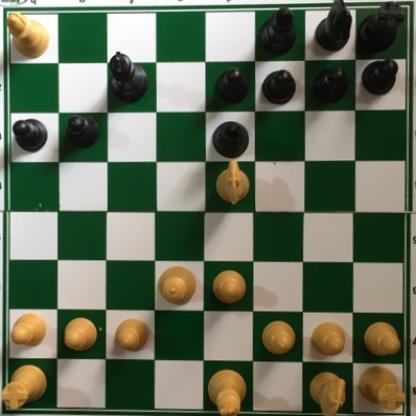black-bishop: (255, 1, 296, 57), (211, 119, 249, 159)
black-king: (105, 47, 148, 101)
black-knight: (315, 1, 353, 53)
black-pawn: (361, 57, 399, 99), (310, 66, 349, 105), (10, 117, 48, 153), (261, 68, 296, 106), (64, 114, 99, 151), (215, 67, 249, 105)
black-rook: (354, 1, 406, 55)
white-bishop: (5, 10, 52, 60)
white-king: (205, 366, 247, 416)
white-knight: (307, 368, 348, 416), (213, 154, 248, 202)
white-pawn: (360, 320, 400, 359), (9, 309, 49, 347), (113, 316, 152, 353), (258, 318, 297, 355), (309, 320, 346, 359), (62, 315, 99, 353), (211, 269, 248, 306)
white-queen: (156, 262, 197, 305)
white-rook: (354, 362, 406, 411), (1, 360, 49, 412)
